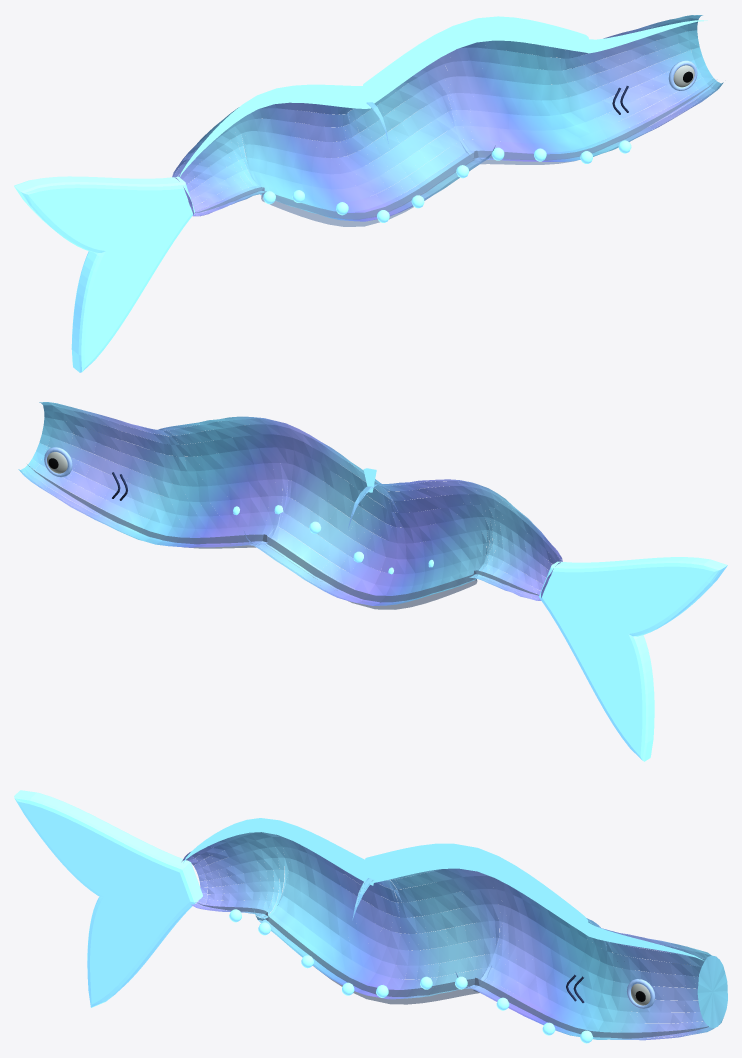
The model's file is comet-eel.glb.
3 renders of one model, top to bottom at view 1: azimuth 30°, elevation 25°; view 2: azimuth 150°, elevation 25°; view 3: azimuth 330°, elevation 25°, orthographic.
Visible parts, largest first — view 1: body, tail_fin, dorsal_ribbon_fin, anal_ribbon_fin; view 2: body, tail_fin, anal_ribbon_fin; view 3: body, tail_fin, dorsal_ribbon_fin, anal_ribbon_fin.
Boxes of the visible parts, <box> form: body: <box>172,15,723,221</box>; tail_fin: <box>14,176,194,372</box>; dorsal_ribbon_fin: <box>178,16,707,179</box>; anal_ribbon_fin: <box>195,79,717,226</box>; body: <box>18,402,562,605</box>; tail_fin: <box>539,557,727,761</box>; anal_ribbon_fin: <box>27,464,539,609</box>; body: <box>182,832,727,1040</box>; tail_fin: <box>14,790,202,1007</box>; dorsal_ribbon_fin: <box>183,818,704,960</box>; anal_ribbon_fin: <box>198,903,708,1038</box>.
Bounding box in the file's own units: 4.06 × 1.43 × 0.5208.
